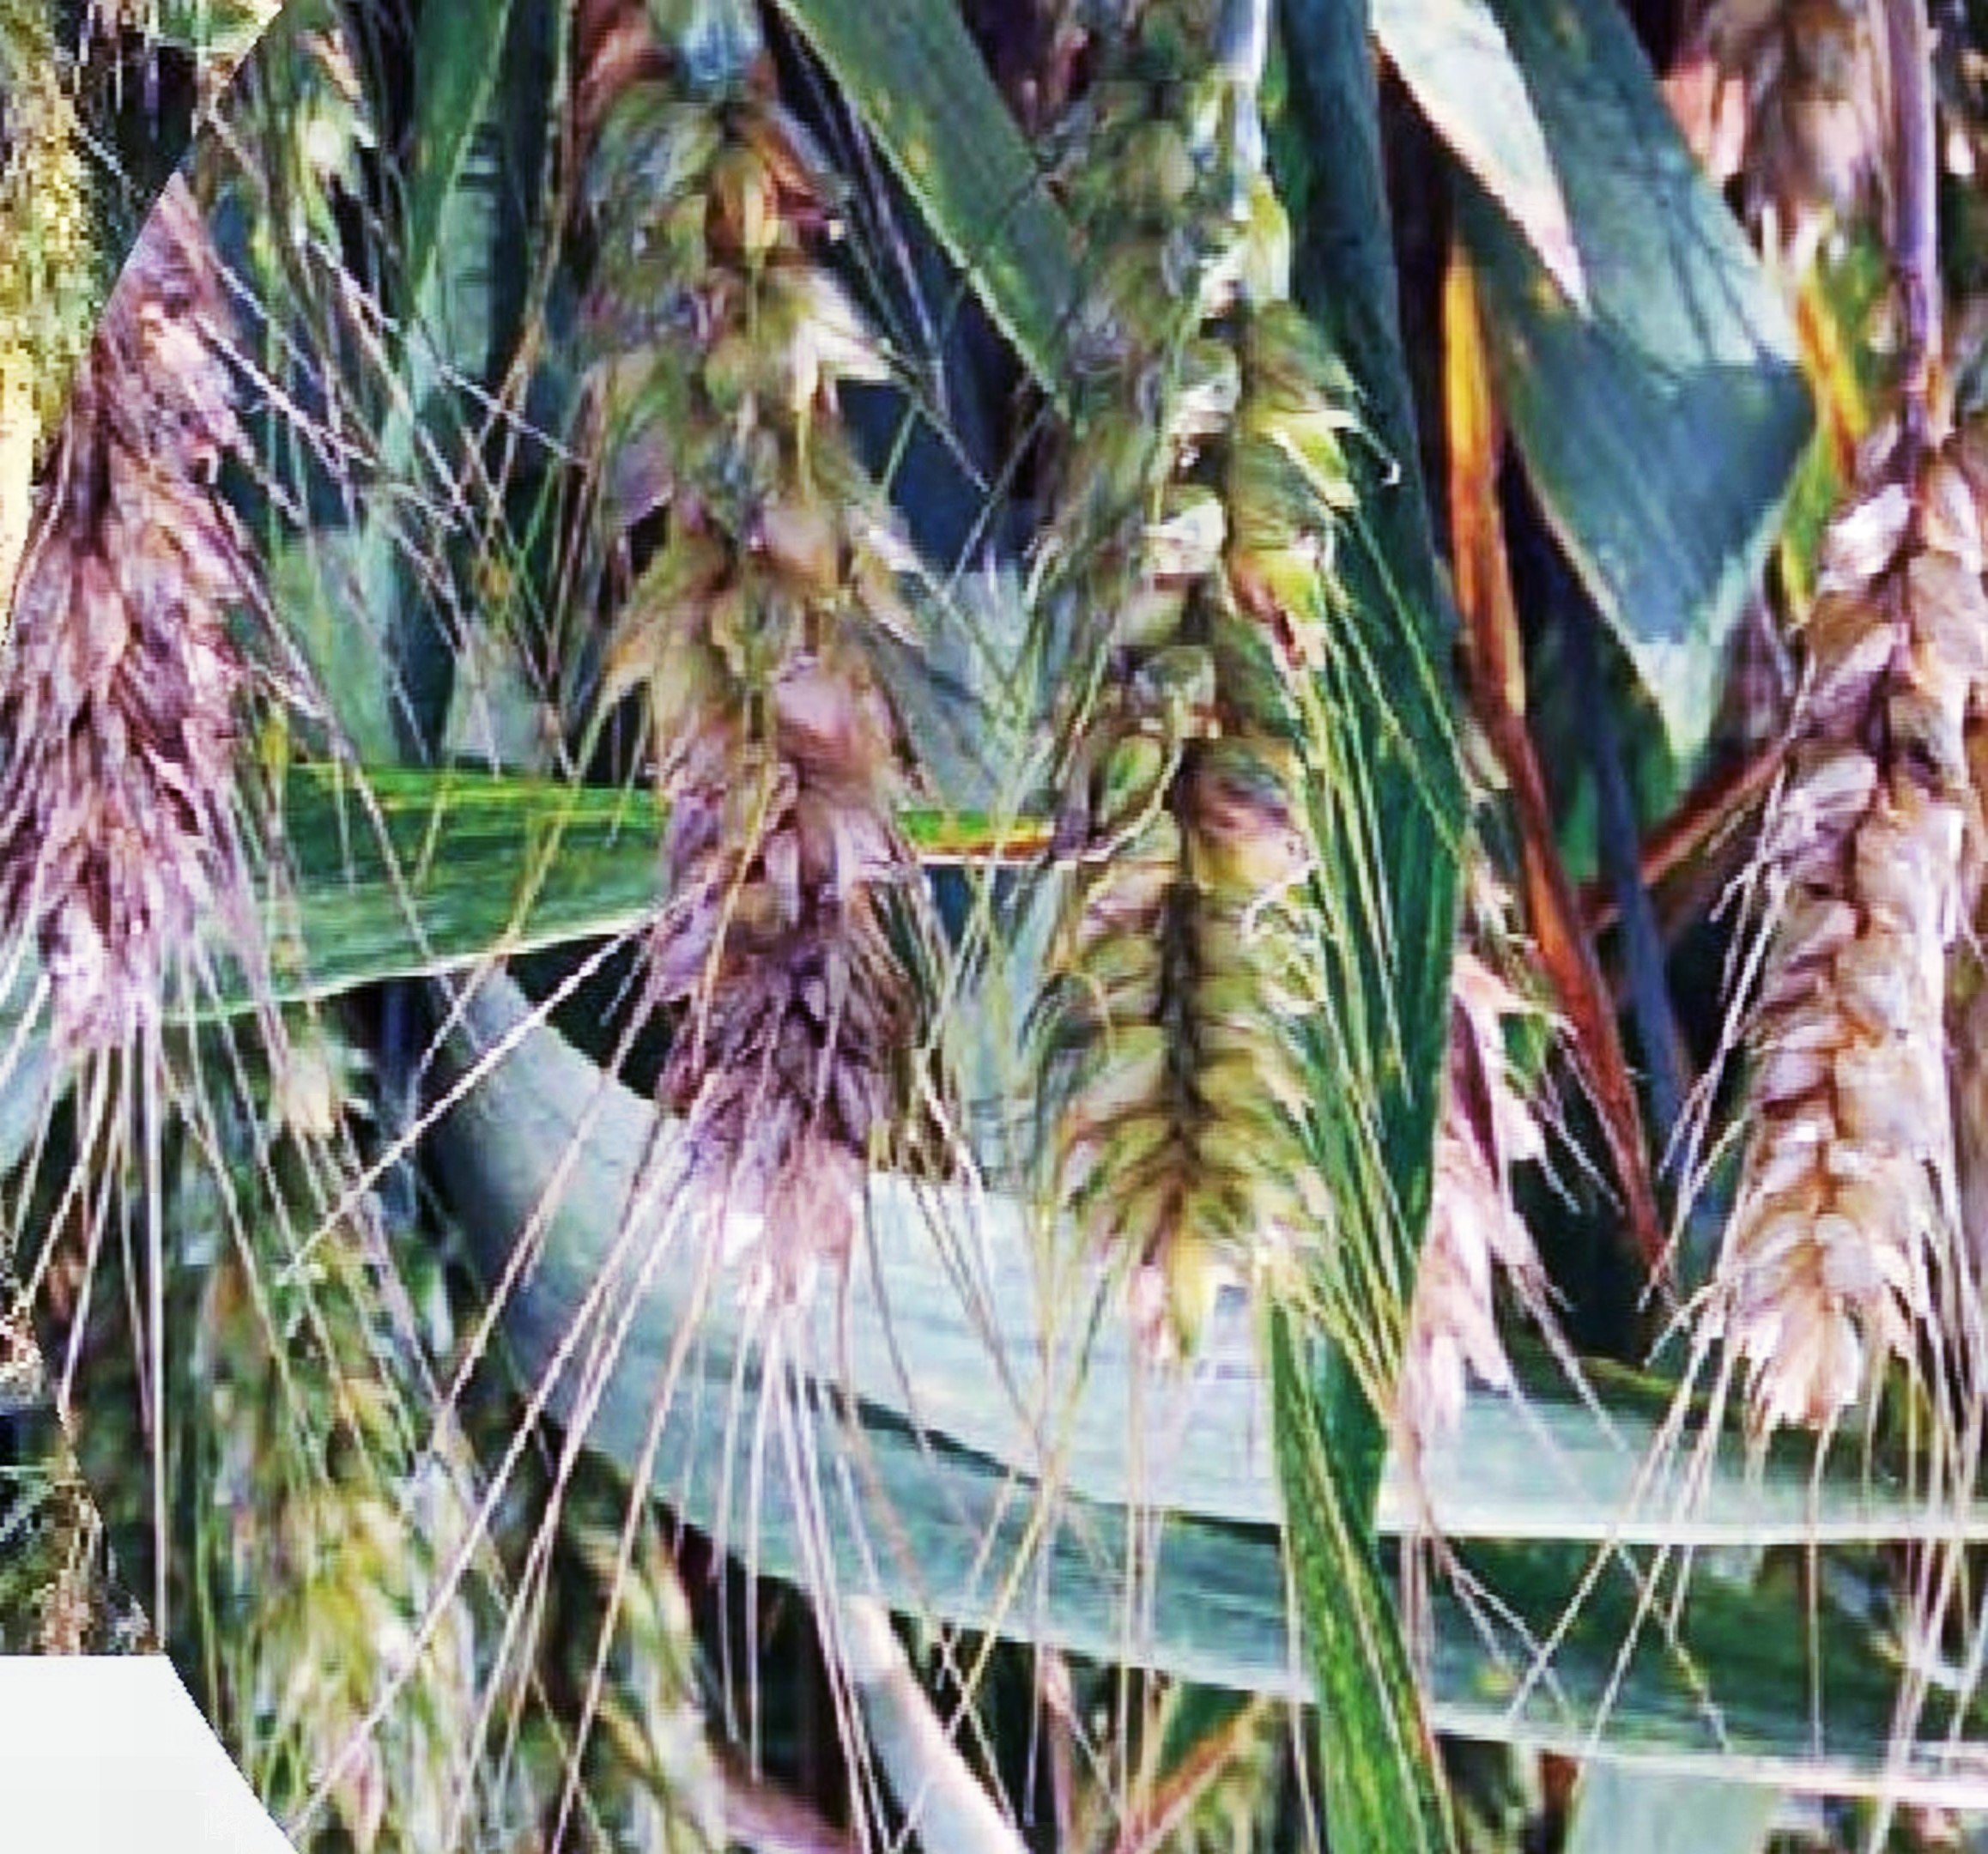Wheat scab: (551, 70, 995, 1223), (1657, 448, 1988, 1500)
